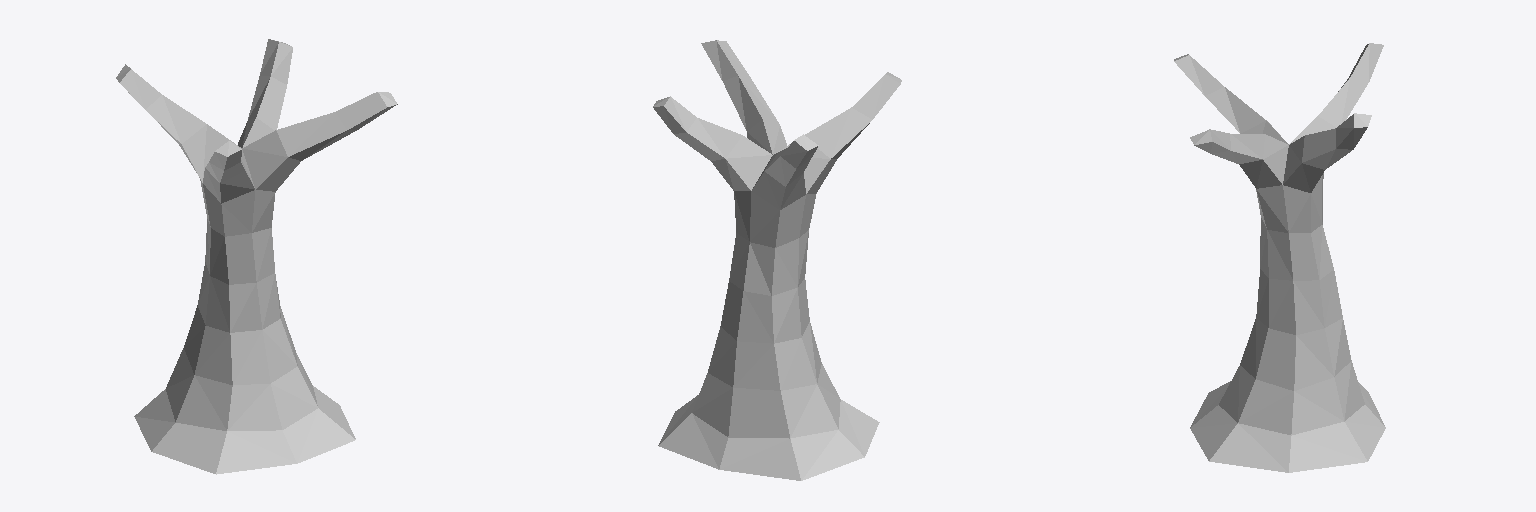
The model's file is tree_trunk.obj.
3 renders of one model, left to right at view 1: azimuth 30°, elevation 25°; view 2: azimuth 150°, elevation 25°; view 3: azimuth 270°, elevation 25°, orthographic.
Visible parts, largest first — view 1: polySurface1; view 2: polySurface1; view 3: polySurface1.
Part boxes in pixels (x1,y1,x2,y2): polySurface1: (116,39,397,474); polySurface1: (653,40,901,480); polySurface1: (1174,43,1385,472).
Size of the model in its own units: 0.4626 by 0.7624 by 0.4214.